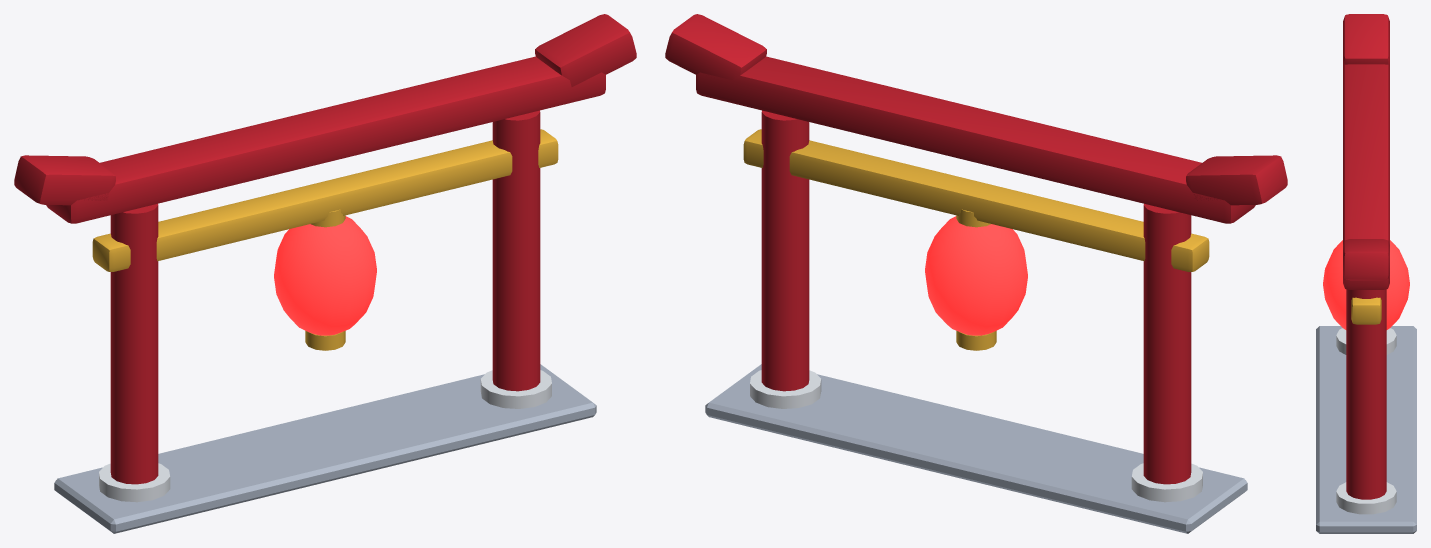
Rendered from roof_torii_ornament.glb.
3 views of the same model, side by side, from view 1: azimuth 30°, elevation 25°; view 2: azimuth 150°, elevation 25°; view 3: azimuth 270°, elevation 25° (orthographic). The views are drawn at different scales.
Parts seen in each view (by area): view 1: paint_red, steel, paint_gold, lamp_red, chrome; view 2: paint_red, steel, paint_gold, lamp_red, chrome; view 3: paint_red, steel, lamp_red, chrome, paint_gold.
Boxes of the visible parts, <box> form: paint_red: <box>14,14,636,484</box>; steel: <box>54,364,596,533</box>; paint_gold: <box>92,129,558,350</box>; lamp_red: <box>274,216,376,335</box>; chrome: <box>99,370,551,502</box>; paint_red: <box>665,14,1287,484</box>; steel: <box>705,364,1247,533</box>; paint_gold: <box>743,129,1209,350</box>; lamp_red: <box>925,216,1027,335</box>; chrome: <box>750,370,1202,502</box>; paint_red: <box>1343,14,1389,499</box>; steel: <box>1316,326,1416,533</box>; lamp_red: <box>1323,240,1409,329</box>; chrome: <box>1336,328,1396,514</box>; paint_gold: <box>1351,297,1381,324</box>.
Size of the model in its own units: 1.73 by 0.9954 by 0.3.
